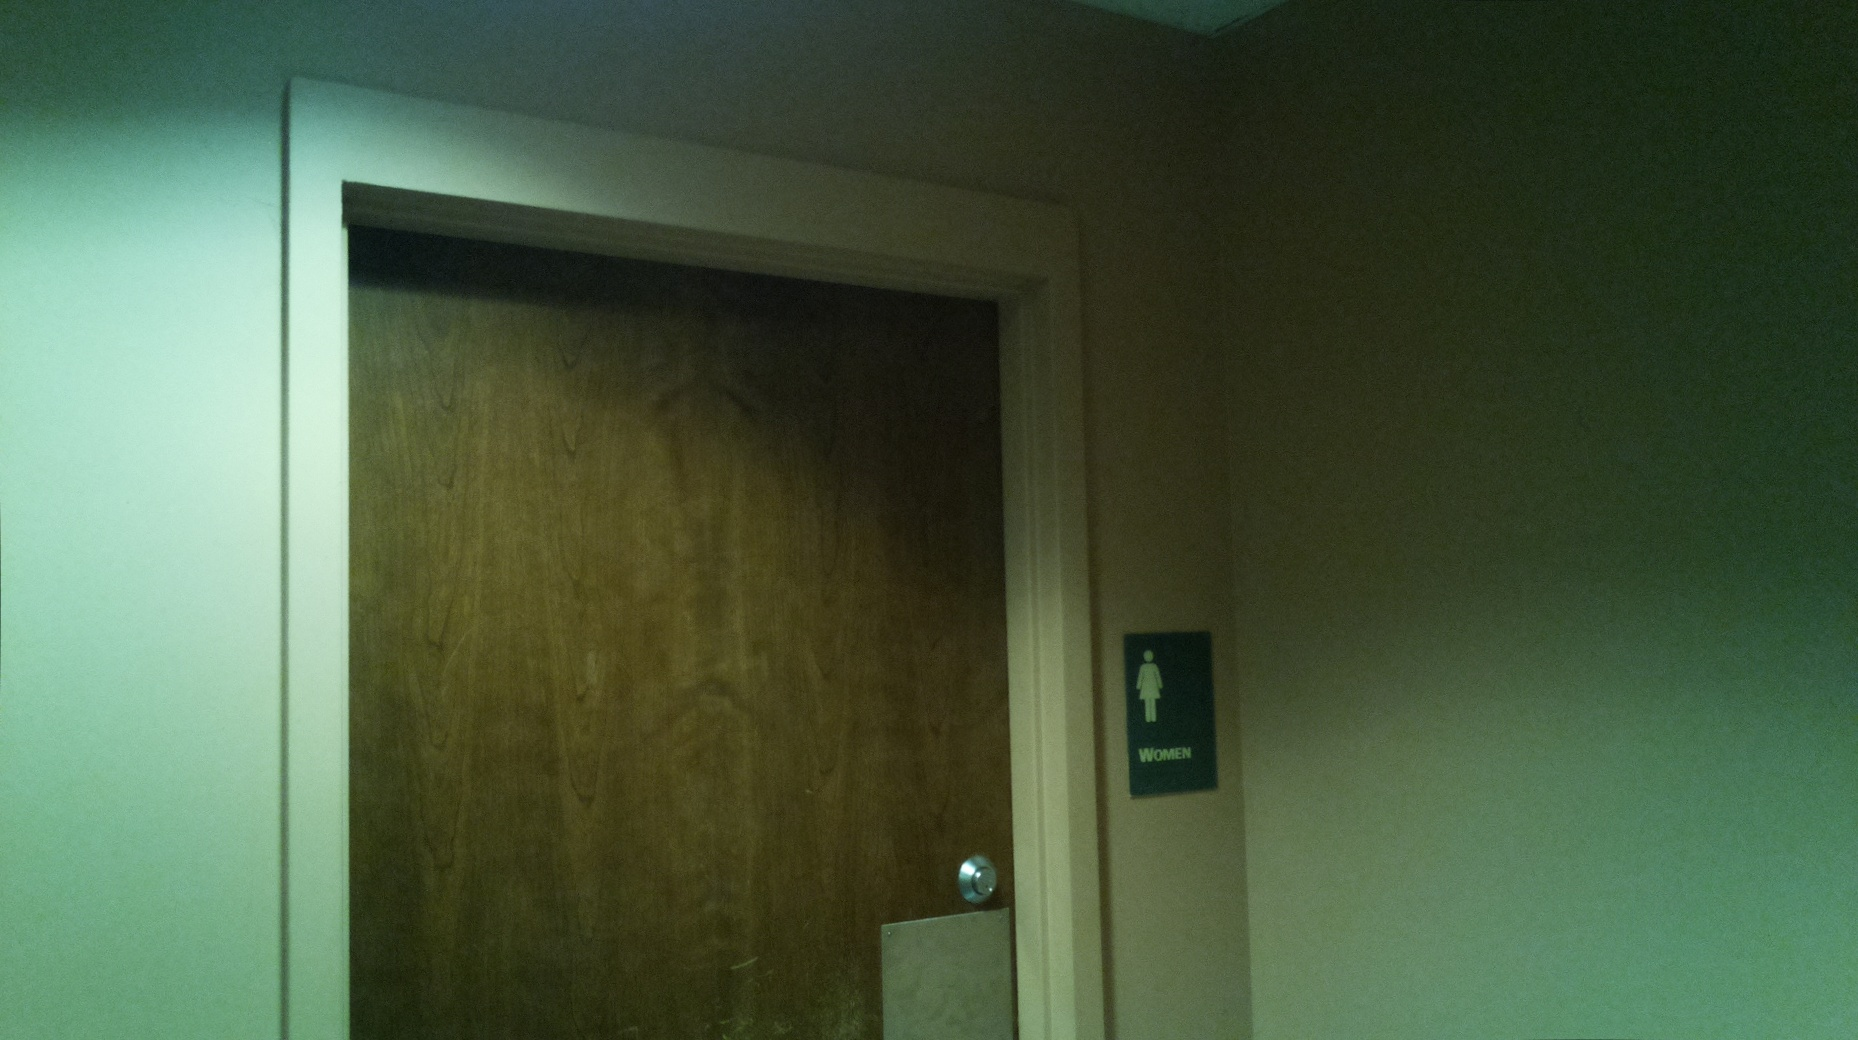bathroom sign: (1115, 621, 1224, 803)
